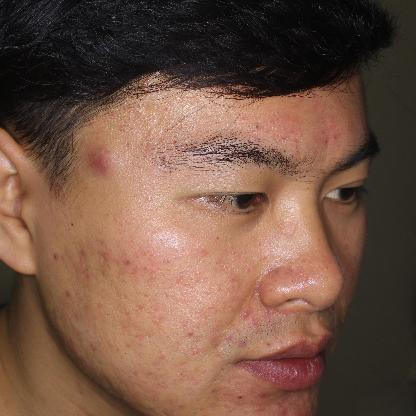Blackheads: (231, 388, 249, 404)
Nodules: (79, 139, 118, 180)
pustules: (234, 305, 254, 322)
